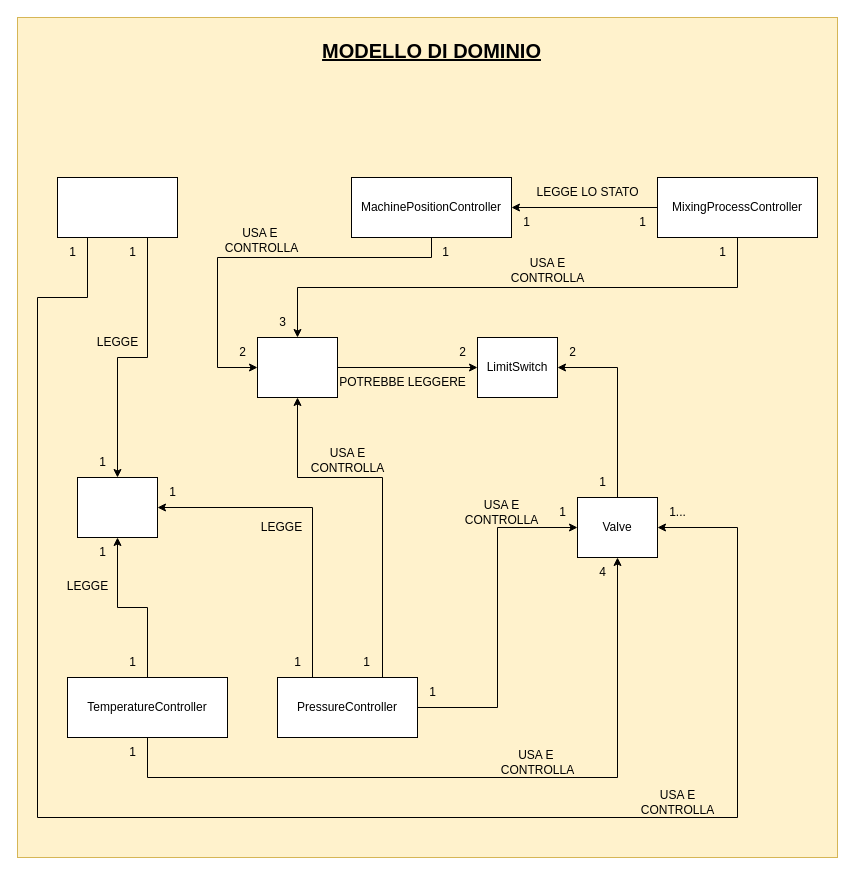
Some shapes in this 855 by 875 pixel diagram are drawn without their labels. The centre of each missing label's shape, as x and y in pixels:
DosingController: (117,207)
Motor: (297,367)
Sensor: (117,507)
